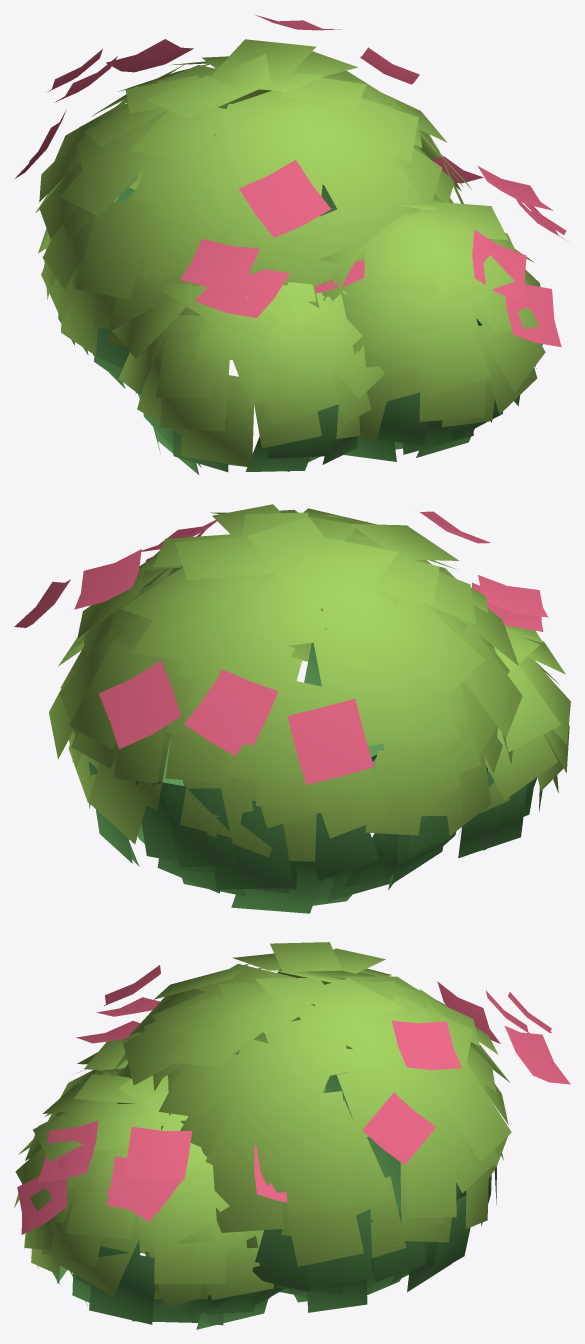
File: plant_bush_1.glb
3 views of the same model, one above another, from view 1: azimuth 30°, elevation 25°; view 2: azimuth 150°, elevation 25°; view 3: azimuth 270°, elevation 25° (orthographic). The views are drawn at different scales.
Parts seen in each view (by area): view 1: plant_bush_1; view 2: plant_bush_1; view 3: plant_bush_1.
Part boxes in pixels (x1,y1,x2,y2): plant_bush_1: (15,15,568,474); plant_bush_1: (14,504,570,913); plant_bush_1: (14,942,570,1329).
Bounding box in the file's own units: 1.71 × 1.26 × 2.08.
